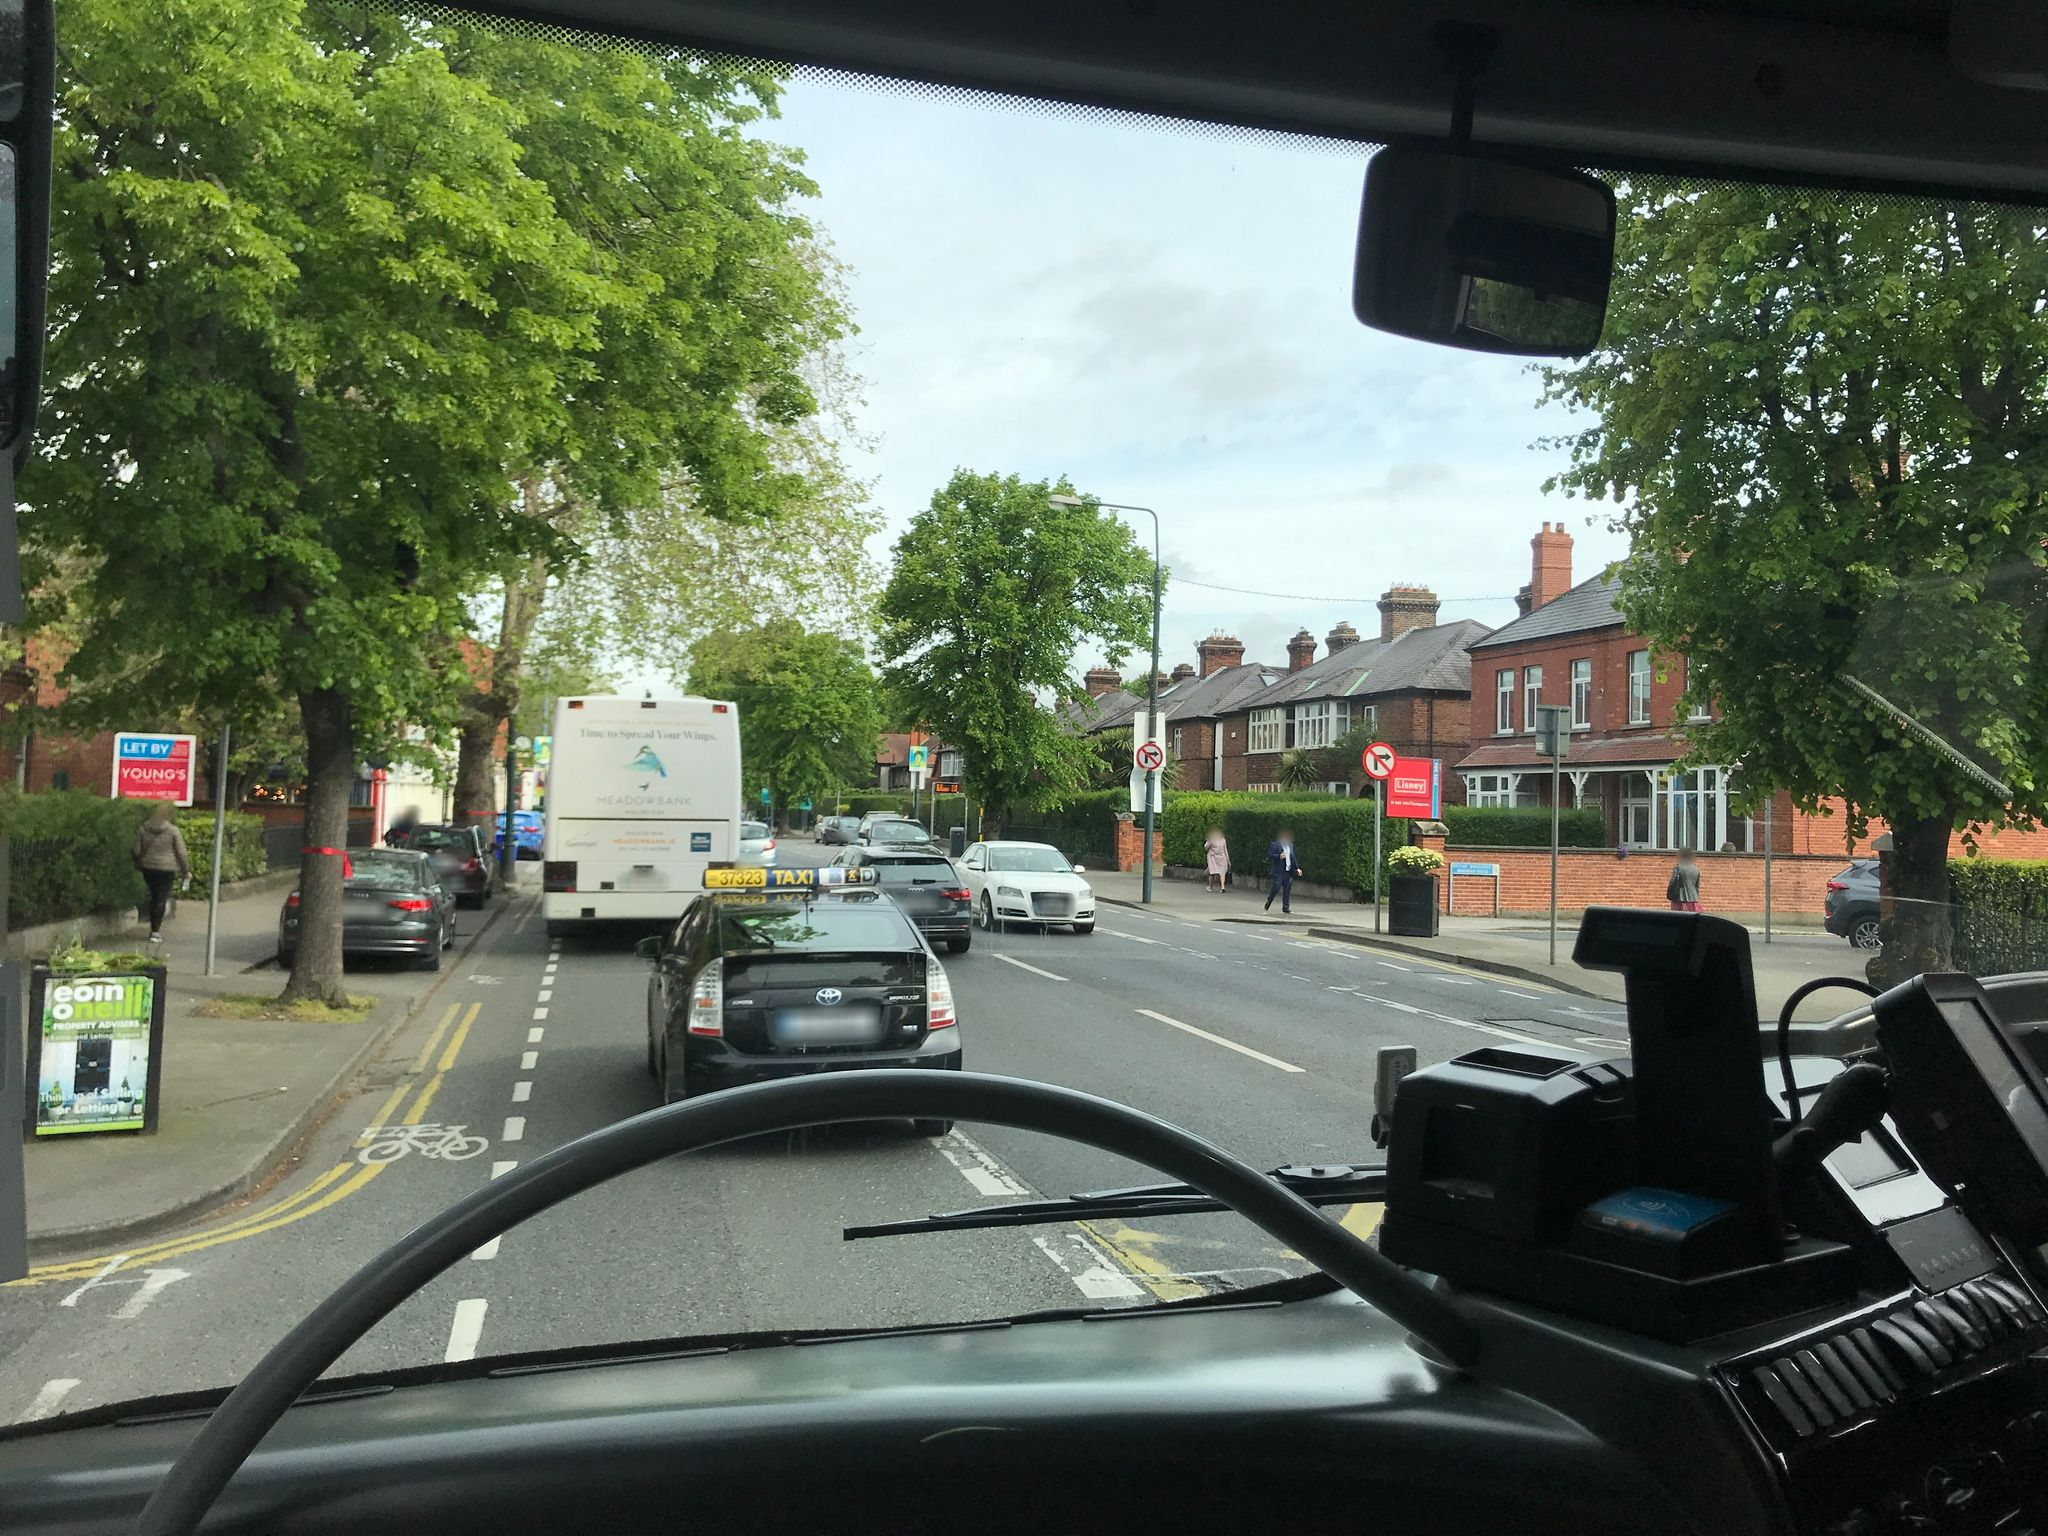property sign: (87, 695, 210, 831), (1367, 728, 1455, 836)
